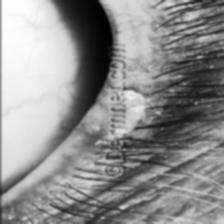Potentially Malignant Skin Tumors: (111, 85, 147, 137)
